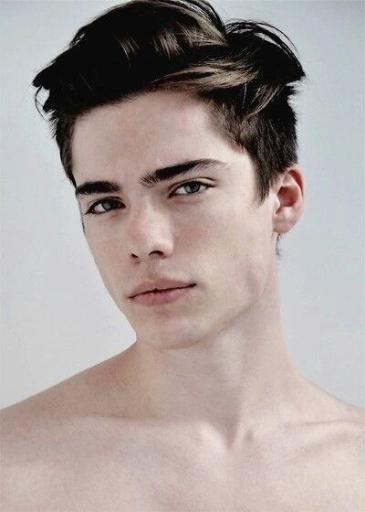left_eye: (168, 178, 220, 203)
left_lip_corner: (187, 277, 205, 298)
right_eye: (86, 197, 128, 221)
right_lip_corner: (126, 292, 138, 306)
